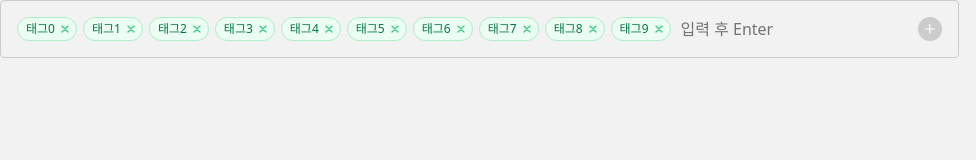
Test: TagInput › 태그가 10개면 더 추가하려 할 때 경고가 보이고 추가되지 않는다
Type "새태그" into the field with placeholder "입력 후 Enter" at (794, 29), box [676,17,912,41]
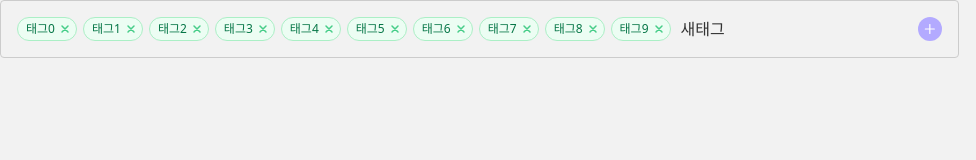
Click the button named "태그 추가" at (930, 29), box [918,17,942,41]
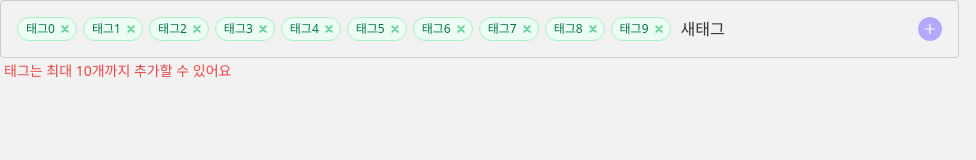
expect the message reads "태그는 최대 10개까지 추가할 수 있어요": met, box [4,61,231,80]
